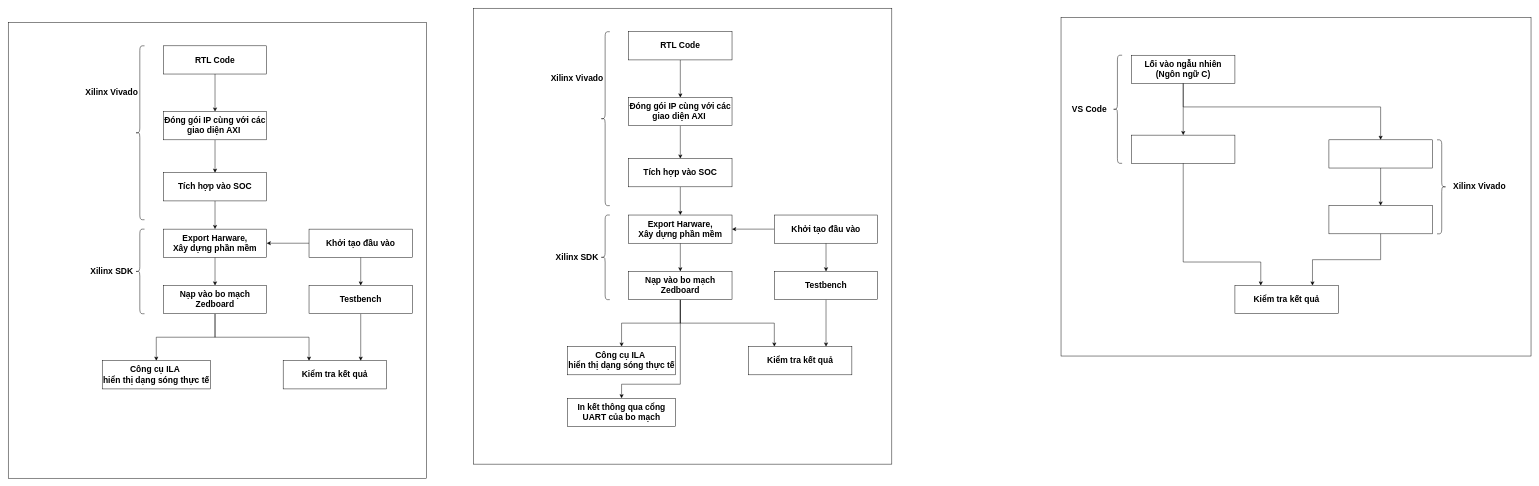
Image size: 1539x486. Some labels were removed from this diagram. The shapes that lost their labels are listed below. From the top down, each one's centre as x and y in pixels, then its label:
point 1183,149: SOFTMAX phần mềm (ngôn ngữ python)
point 1380,153: SOFTMAX testbench (Ngôn ngữ Verilog)
point 1380,219: SOFTMAX phần cứng (Ngôn ngữ Verilog)
